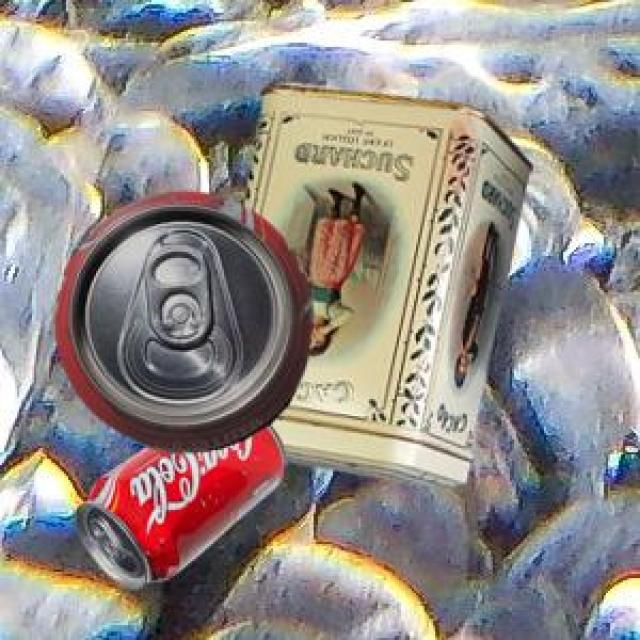logam: (240, 80, 528, 483), (52, 189, 310, 449), (74, 421, 285, 586)
